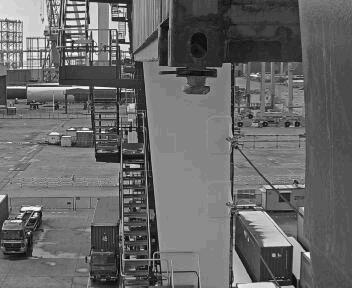twist_lock_1: (156, 152, 211, 195)
